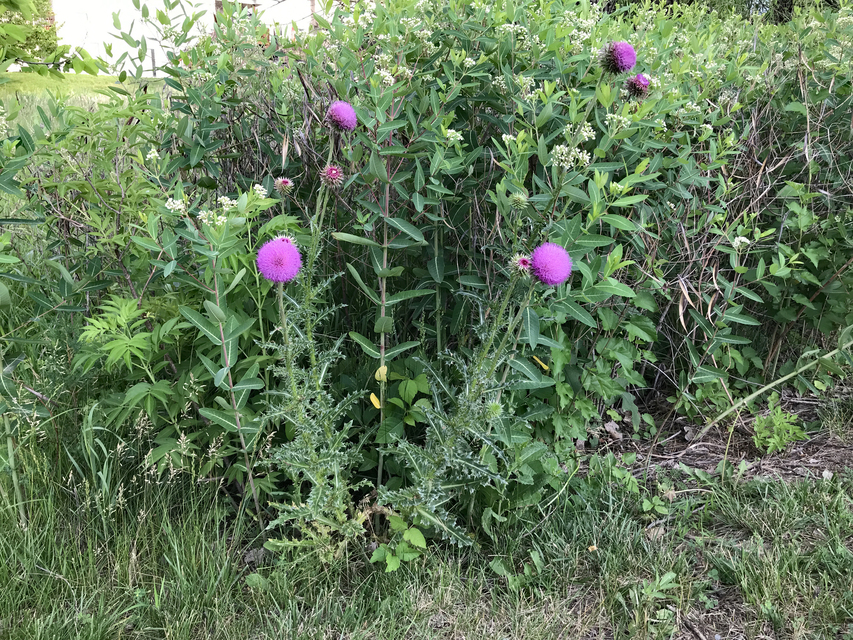thistle: (252, 226, 307, 282), (525, 239, 577, 297), (587, 30, 633, 78), (319, 97, 363, 140), (622, 72, 657, 110), (315, 160, 349, 195), (502, 252, 532, 288), (267, 174, 297, 199)
